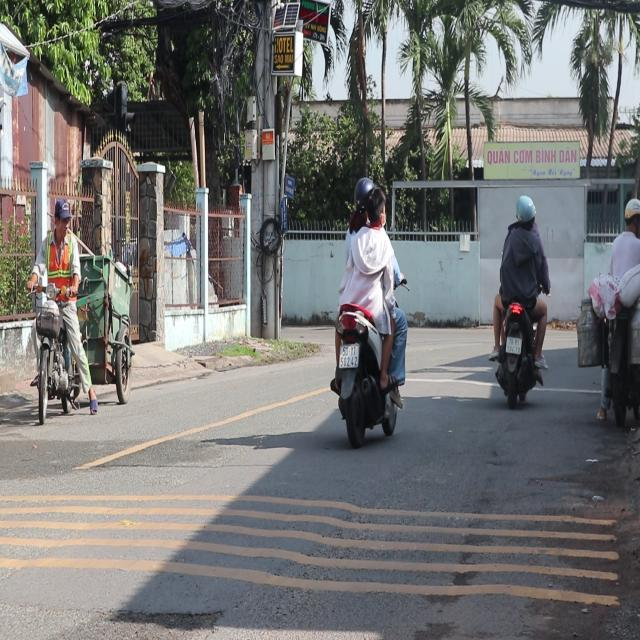helmet: (352, 174, 374, 209), (514, 193, 535, 228), (623, 197, 640, 233)
licenseplate: (327, 172, 409, 445), (26, 194, 96, 422), (488, 192, 550, 406), (598, 195, 640, 425)
motorcyclist: (365, 184, 387, 228), (52, 195, 71, 233)
nohelmet: (339, 344, 358, 367), (506, 336, 521, 353)
